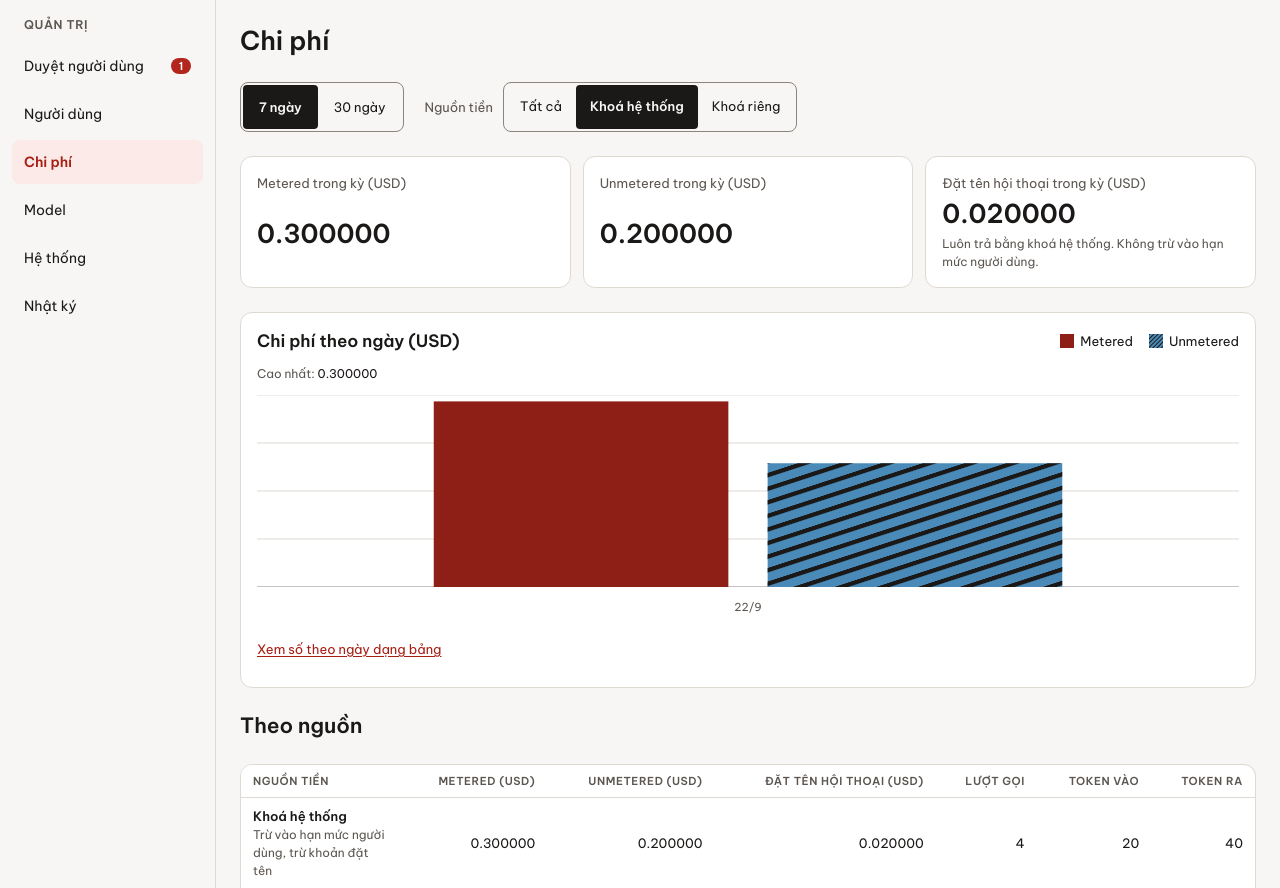
Scenario: Chi phi › chon nguon 'Khoa rieng' ⇒ the dat ten noi 'Khong co trong nguon nay', khong in so 0
Click the radio button labelled "Khoá riêng".
click(746, 107)  # box [698,85,794,129]
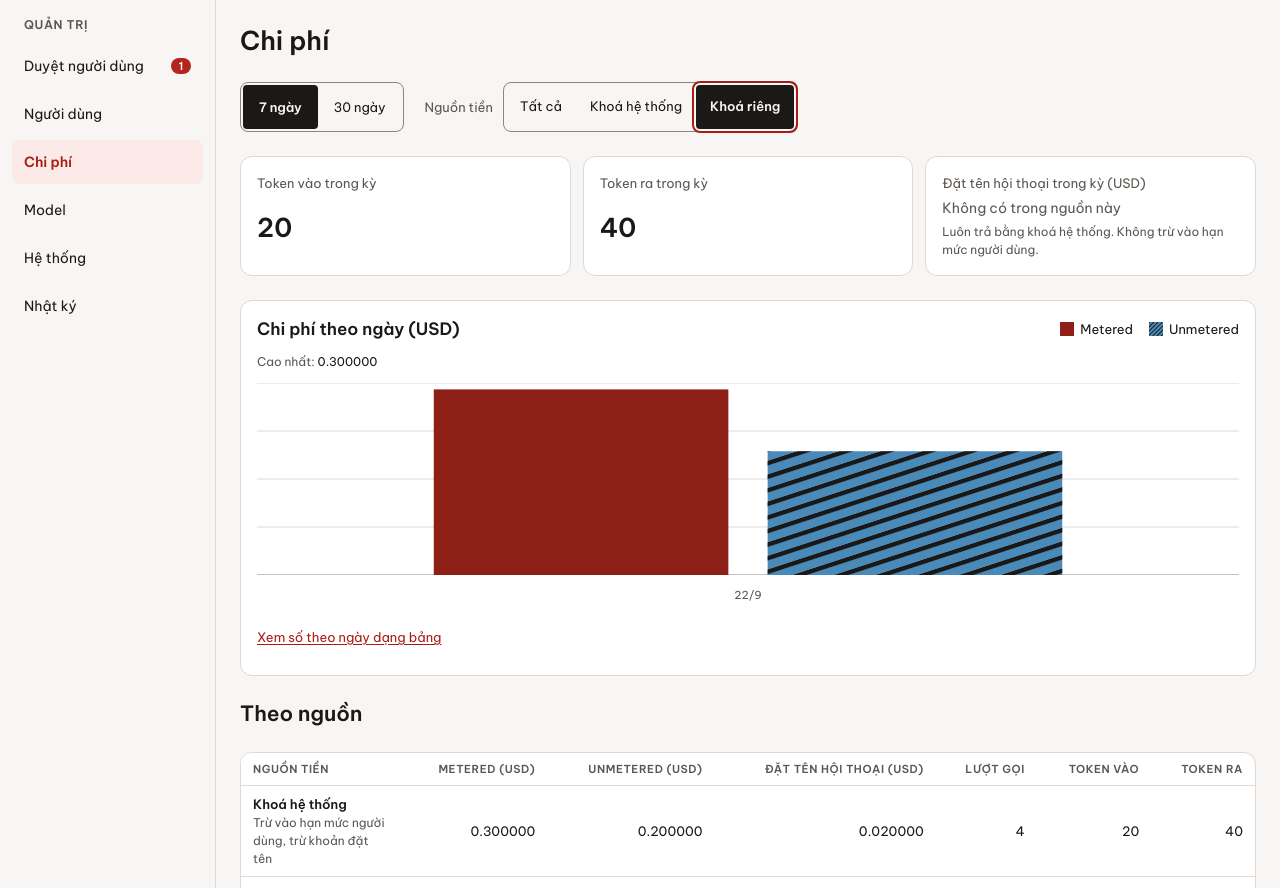
Check: the text "Không có trong nguồn này" is shown, box [942,199,1121,217]
